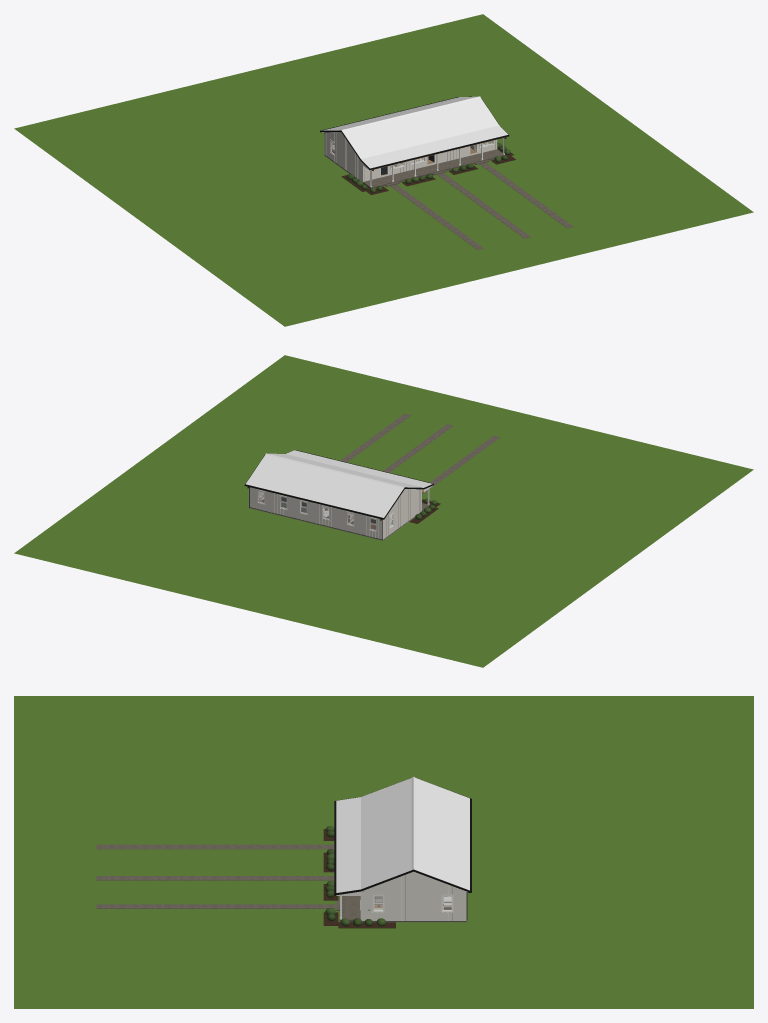
File: house.glb
The picture shows the model from 3 angles, top to bottom: view 1: azimuth 30°, elevation 25°; view 2: azimuth 150°, elevation 25°; view 3: azimuth 270°, elevation 25°; orthographic projection. The views are drawn at different scales.
Parts seen in each view (by area): view 1: LM_ground, LM_roof, LM_site, LM_walls; view 2: LM_ground, LM_roof, LM_walls, LM_site; view 3: LM_ground, LM_roof, LM_site, LM_walls.
Boxes of the visible parts, x1,y1,x2,y2 form: LM_ground: (14, 14, 753, 326); LM_roof: (320, 96, 509, 185); LM_site: (324, 138, 573, 249); LM_walls: (324, 132, 497, 181); LM_ground: (14, 355, 753, 667); LM_roof: (244, 450, 433, 539); LM_walls: (248, 487, 421, 539); LM_site: (249, 413, 500, 540); LM_ground: (14, 696, 753, 1008); LM_roof: (334, 776, 471, 920); LM_site: (96, 826, 466, 928); LM_walls: (360, 871, 466, 920).
Bounding box in the file's own units: 64 × 5.48 × 64.
Materials: 55 (9 with a texture image).
